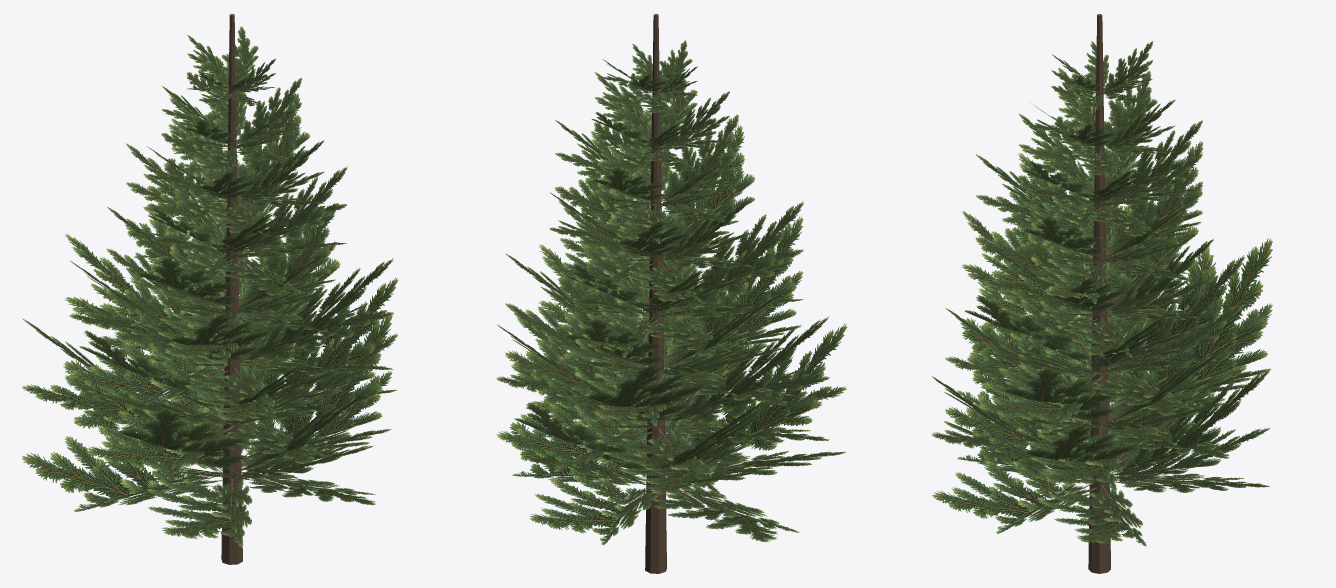
Rendered from pine-2.glb.
The picture shows the model from 3 angles, left to right: view 1: azimuth 30°, elevation 25°; view 2: azimuth 150°, elevation 25°; view 3: azimuth 270°, elevation 25°; orthographic projection.
Visible parts, largest first — view 1: pine-2; view 2: pine-2; view 3: pine-2.
Part boxes in pixels (bbox=[...]): pine-2: bbox=[22, 14, 398, 564]; pine-2: bbox=[496, 14, 847, 573]; pine-2: bbox=[931, 14, 1272, 573].
Bounding box in the file's own units: 9.91 × 14 × 9.76.
2 materials, 1 textured.
